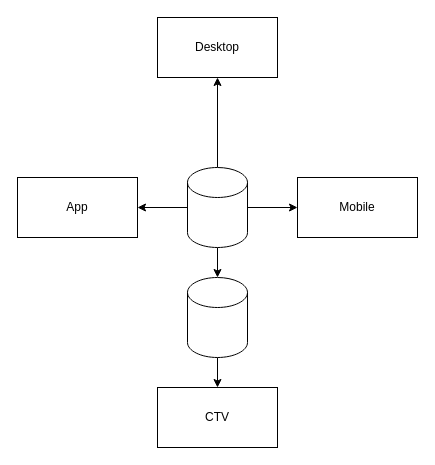
Some shapes in this 435 by 465 pixel diagram are drawn without their labels. Each missing label, with the centre of its shape:
HHID pool: the point at 217,317
OneIDx pool: the point at 217,207
